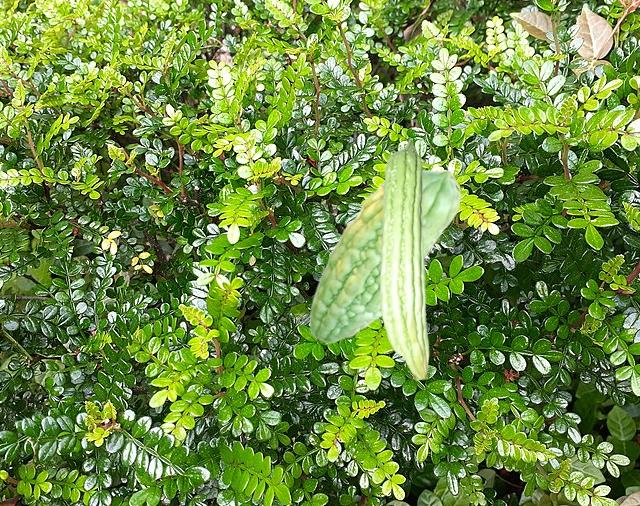ampalaya: (308, 169, 463, 345), (377, 137, 429, 381)
